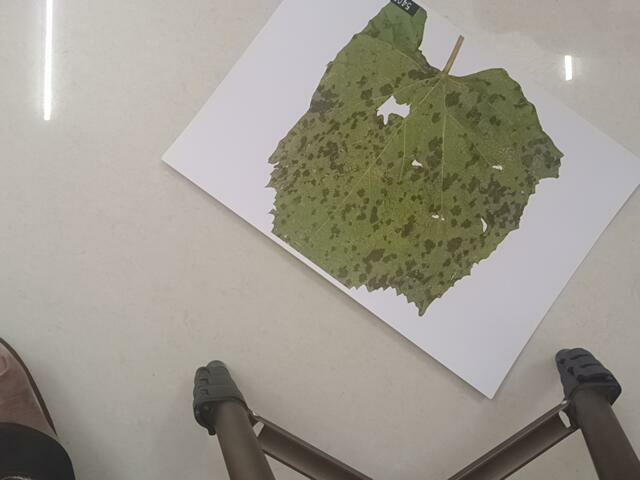Grape_Blight_Leaf: (265, 1, 566, 309)
